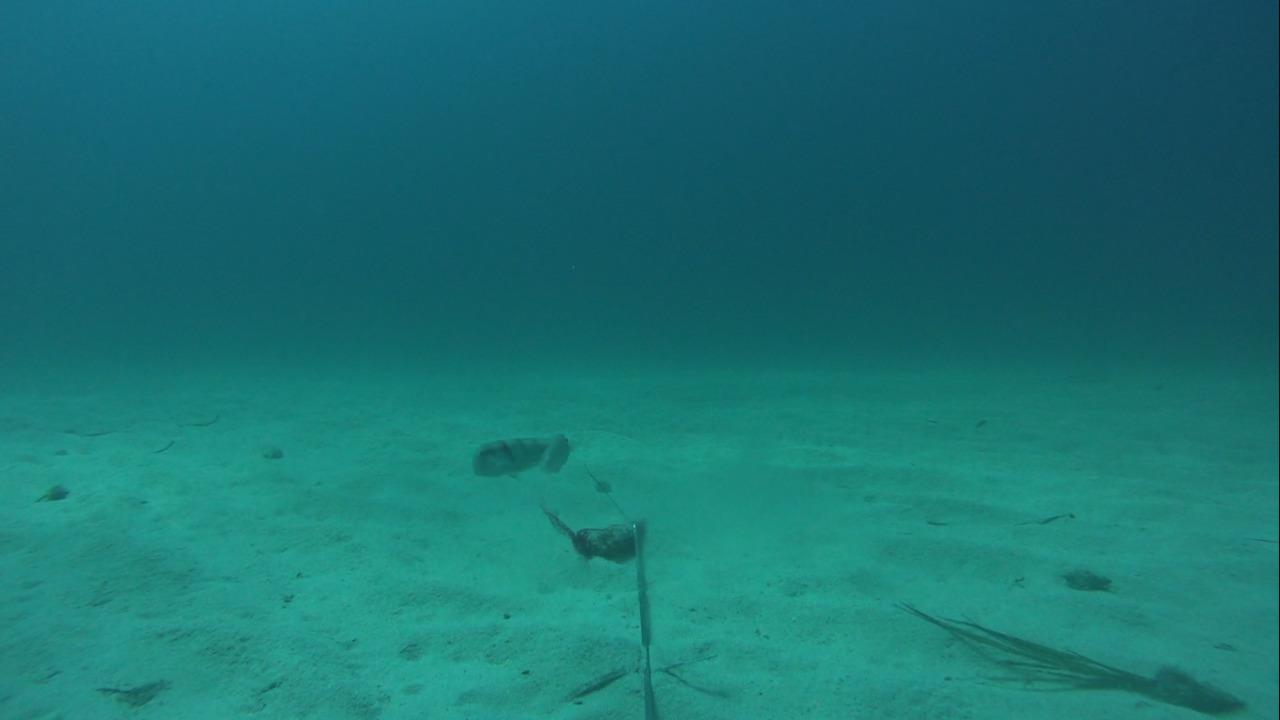raor: (467, 427, 547, 482), (538, 433, 582, 485)
